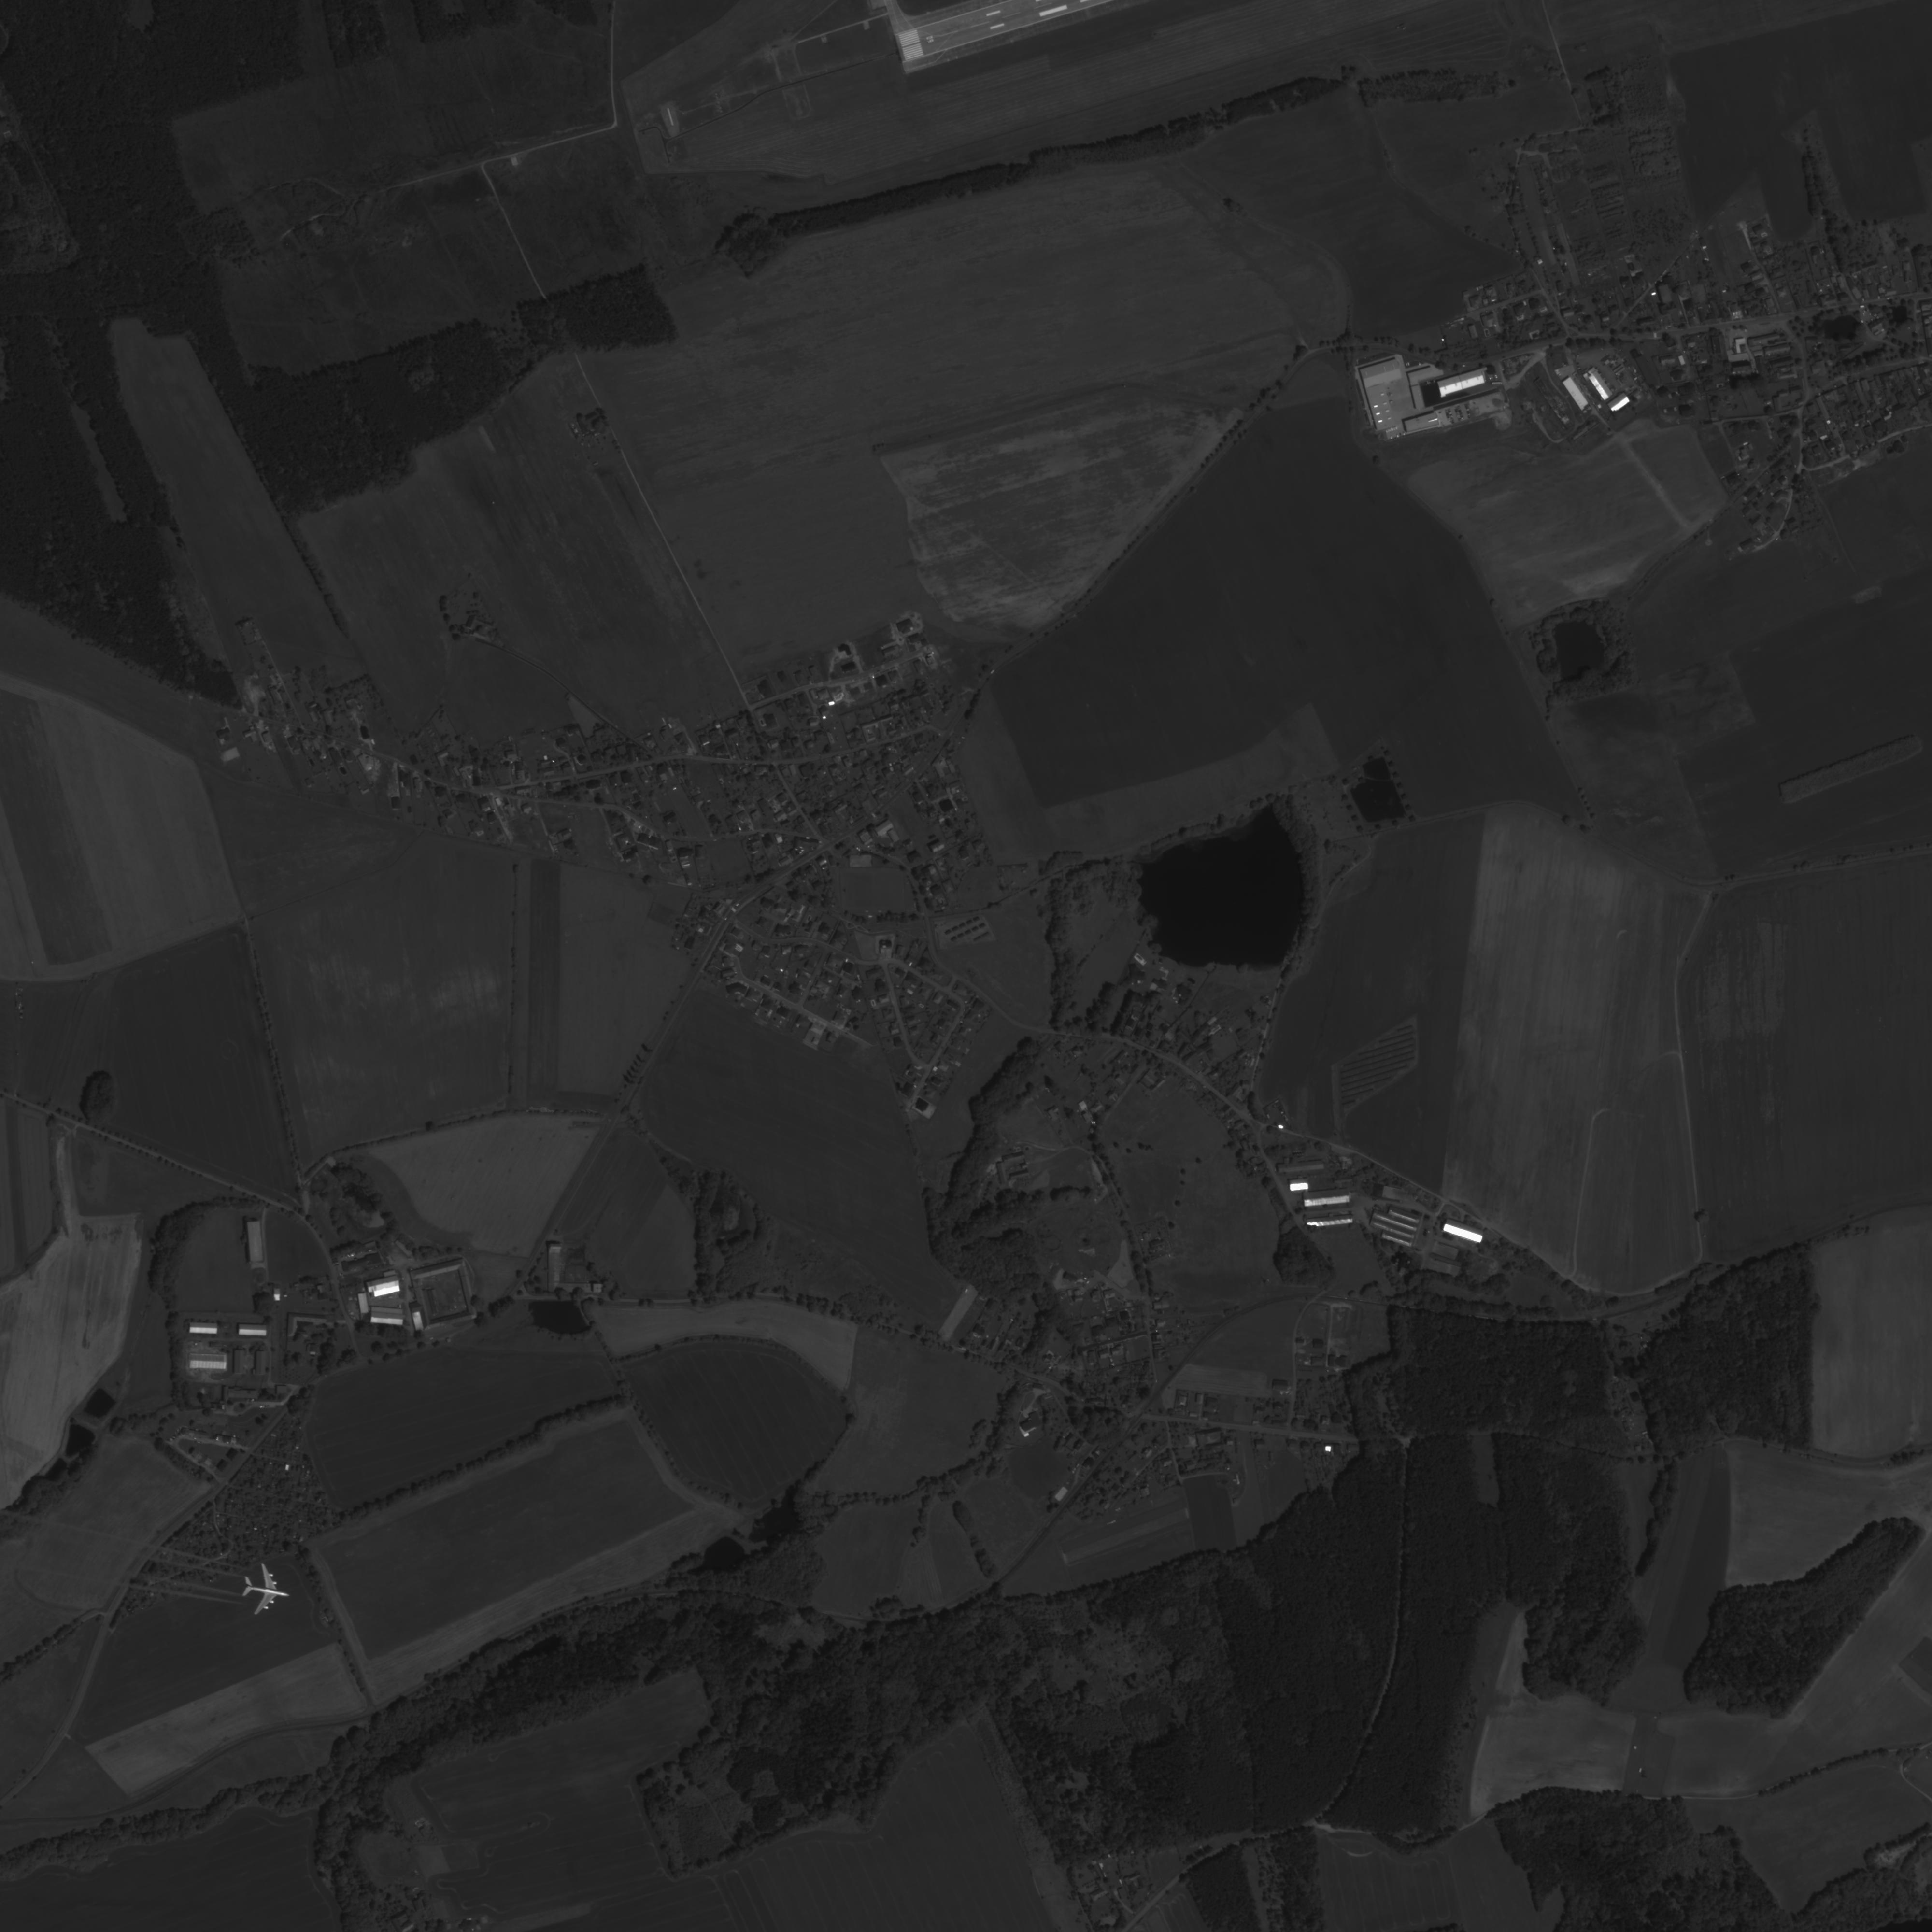plane: (235, 1560, 295, 1622)
